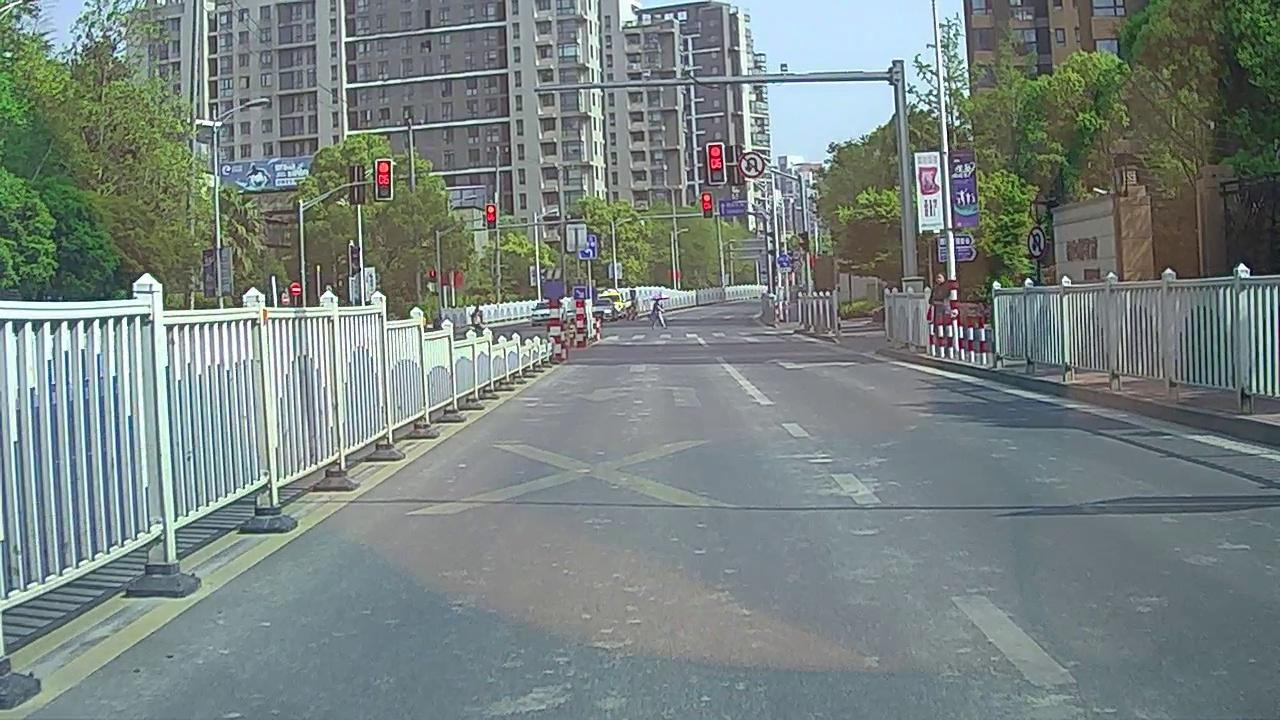traffic_light: (708, 142, 726, 183), (377, 158, 392, 198), (702, 191, 712, 217), (486, 204, 496, 229)
